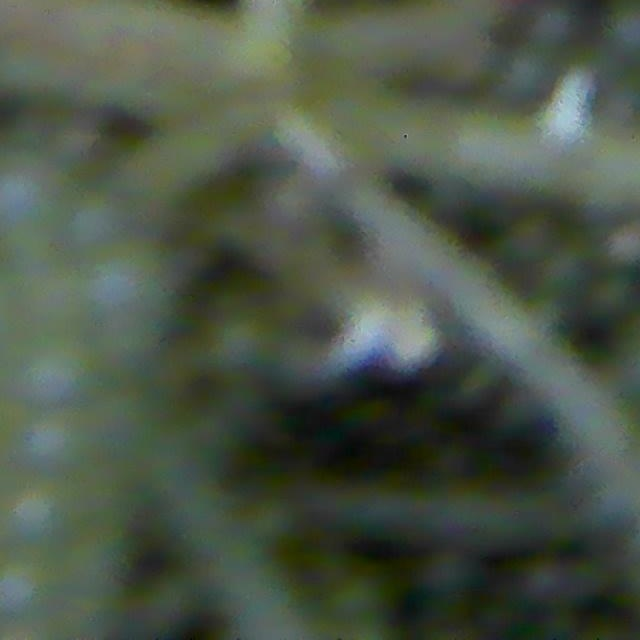SeaGrape: (17, 332, 96, 409), (0, 475, 72, 549), (14, 408, 87, 475), (92, 275, 159, 338), (0, 546, 52, 621), (0, 162, 55, 230), (522, 0, 585, 56), (68, 205, 122, 263), (490, 48, 549, 101)
